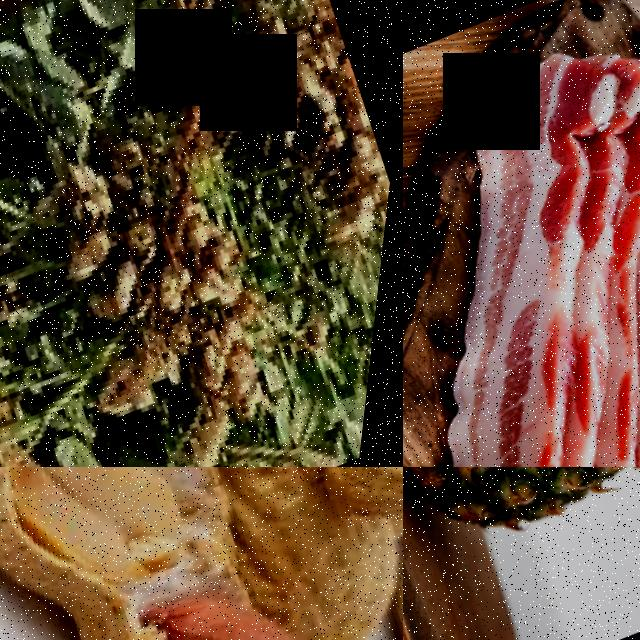pineapple: (403, 467, 640, 590)
pork belly: (444, 39, 640, 253), (403, 325, 629, 467)
